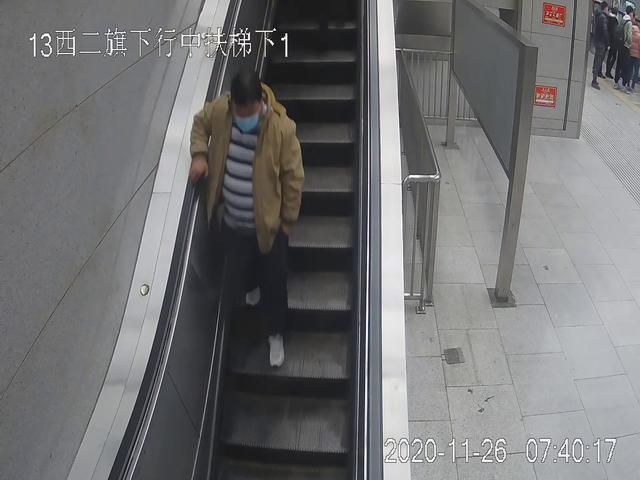person: (190, 71, 304, 370), (590, 1, 610, 89), (618, 7, 636, 92)
